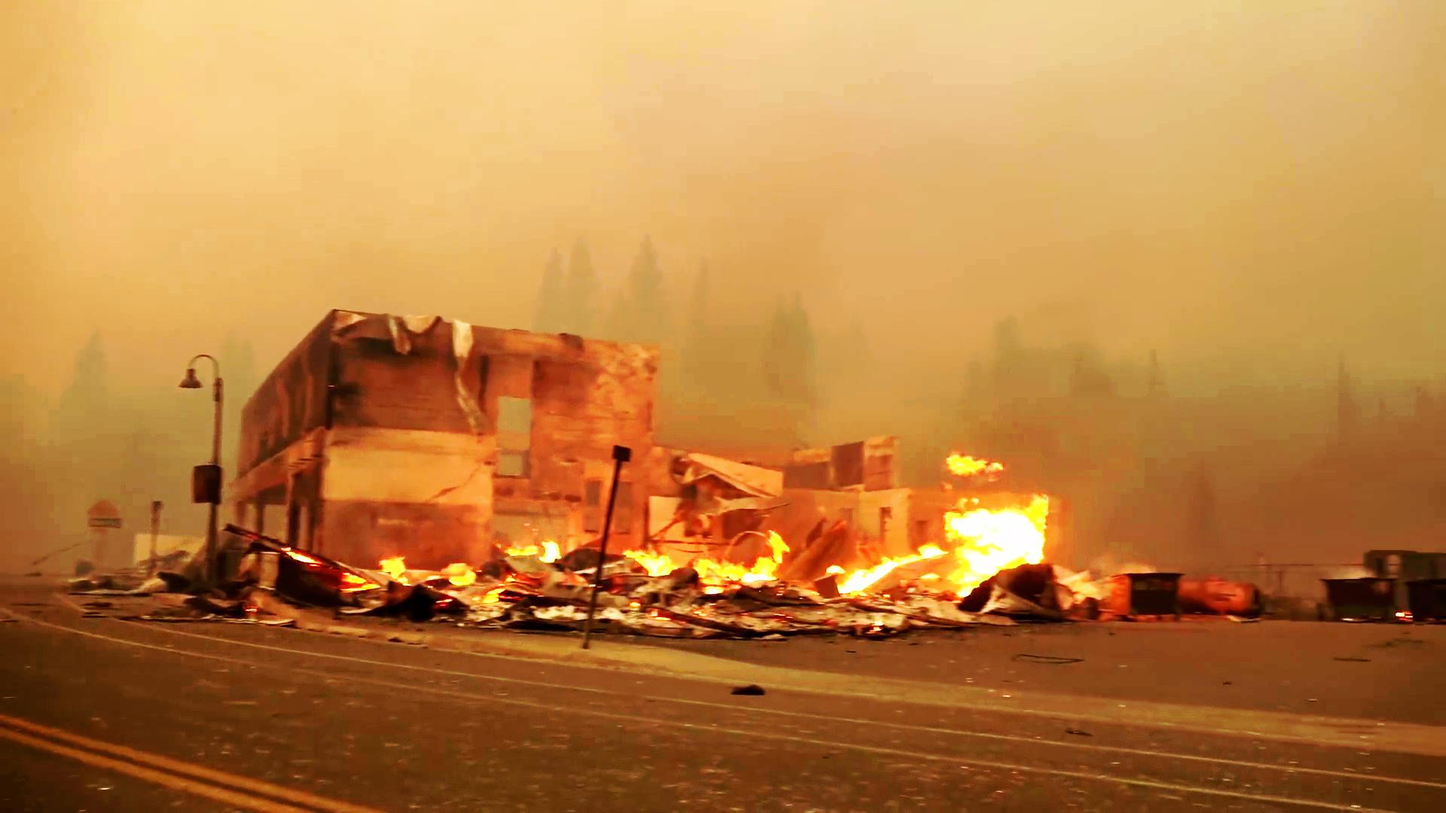fire: (942, 469, 1047, 587)
